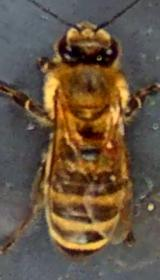varroa_mite: (102, 132, 127, 164)
